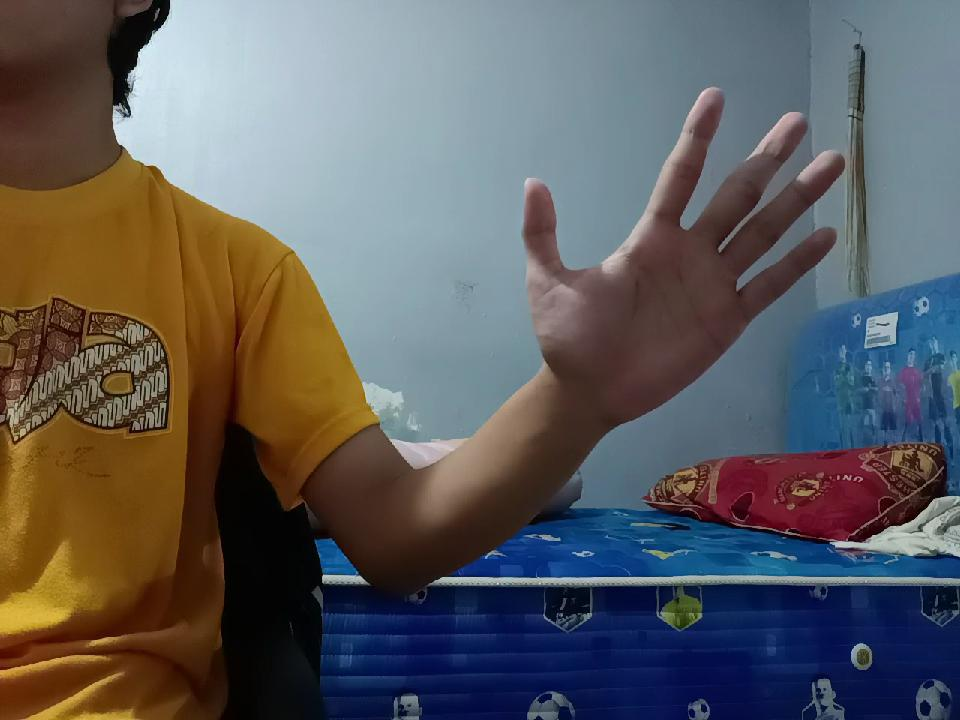paper: (508, 84, 834, 424)
